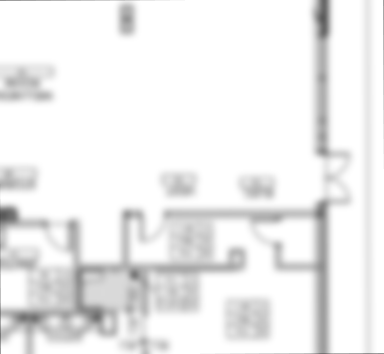door: (138, 210, 169, 243), (44, 220, 73, 253), (250, 218, 281, 246)
double door: (322, 151, 352, 205)
wall: (165, 206, 319, 219), (123, 263, 250, 271), (316, 208, 323, 353), (0, 310, 120, 316), (73, 218, 80, 315), (0, 219, 45, 229), (122, 211, 130, 266), (24, 314, 34, 353), (273, 264, 323, 271), (273, 245, 283, 270), (111, 311, 119, 337), (97, 330, 118, 339), (97, 314, 106, 335)
